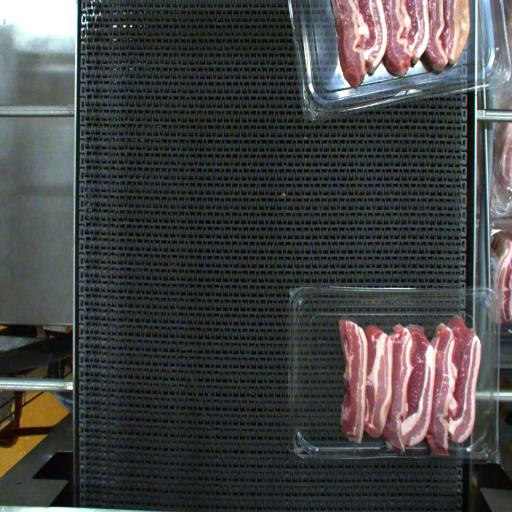packaging-error: (375, 429, 463, 466)
